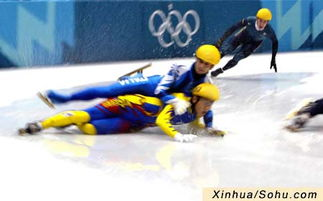fall: (39, 42, 219, 111)
